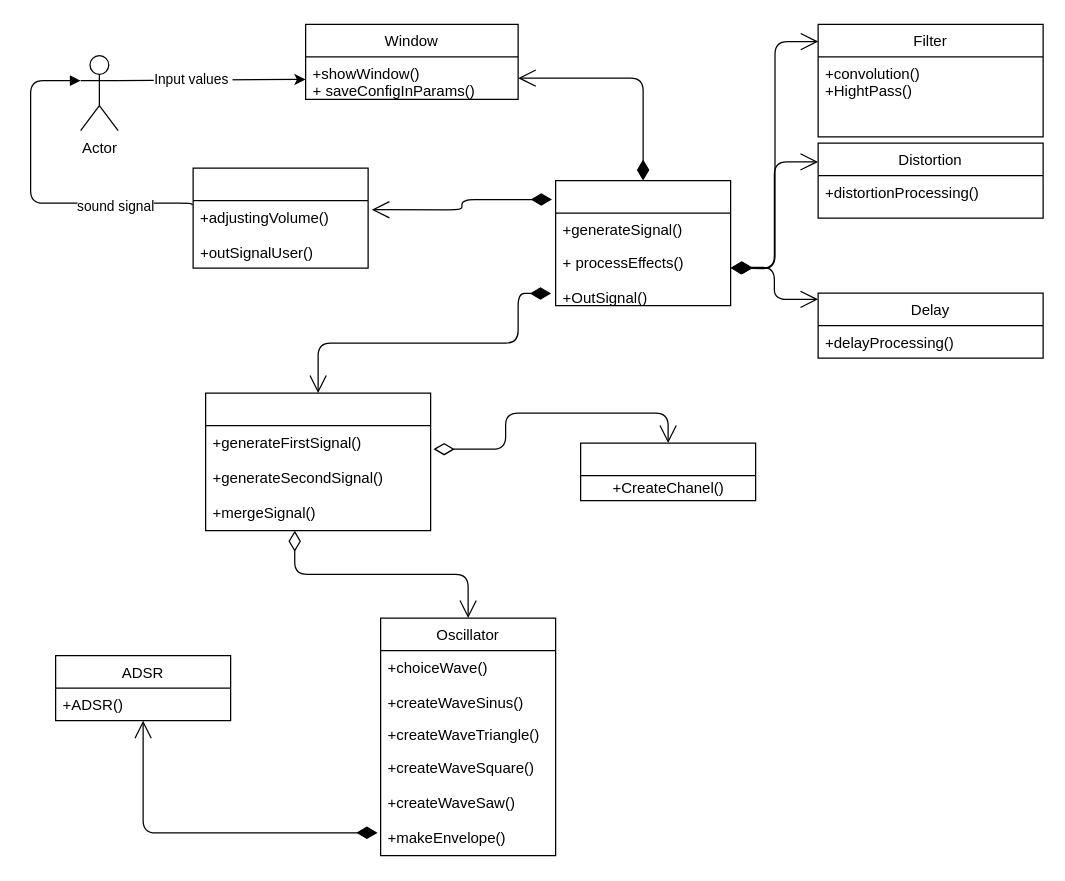
Some shapes in this 1065 by 881 pixel diagram are drawn without their labels. The shapes that lost their labels are listed below. From the top down, each one's box as (x1, y1, x2, y2) in pixels, then its label:
(192, 167, 368, 268): Master
(554, 179, 731, 306): AudioProcessor
(204, 392, 431, 531): Generator
(579, 442, 756, 501): AudioChannel
